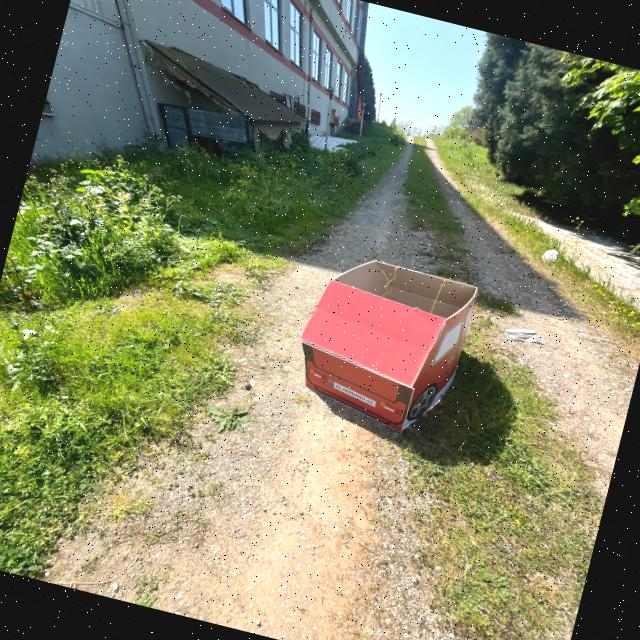red_car: (277, 239, 495, 461)
